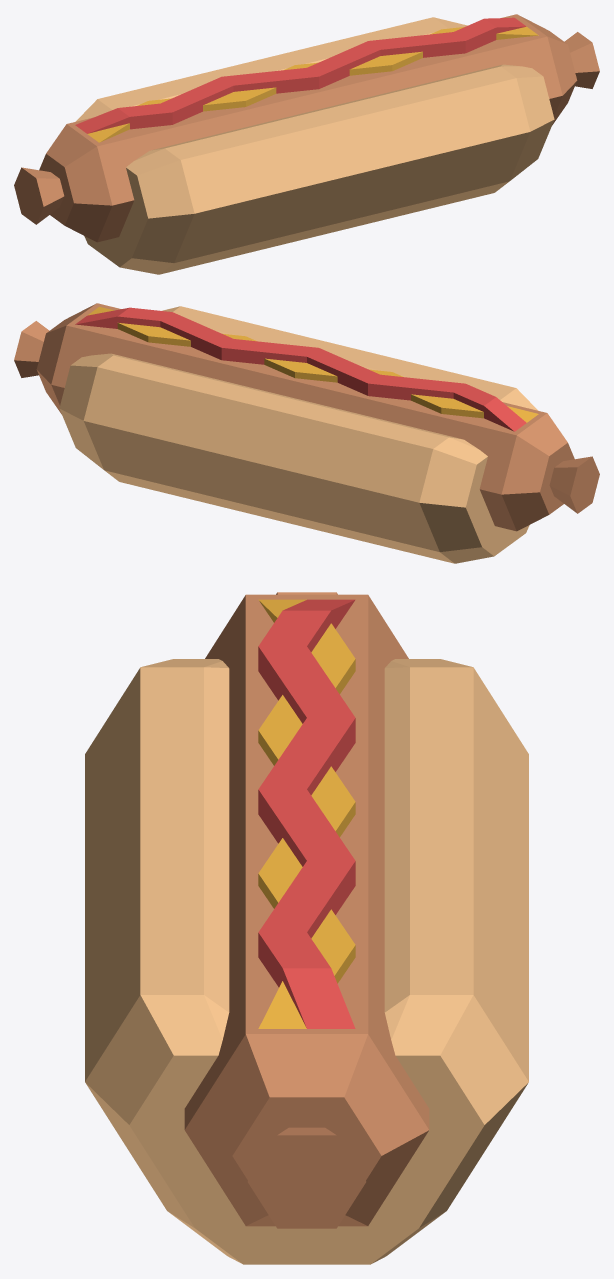
The model's file is hotDog.obj.
3 renders of one model, top to bottom at view 1: azimuth 30°, elevation 25°; view 2: azimuth 150°, elevation 25°; view 3: azimuth 270°, elevation 25°, orthographic. The views are drawn at different scales.
Parts seen in each view (by area): view 1: hotDog, sausage, sauce; view 2: hotDog, sausage, sauce; view 3: hotDog, sausage, sauce.
Part boxes in pixels (bbox=[...]): hotDog: bbox=[75, 17, 554, 274]; sausage: bbox=[14, 14, 599, 242]; sauce: bbox=[75, 17, 538, 142]; hotDog: bbox=[59, 306, 538, 563]; sausage: bbox=[14, 303, 599, 531]; sauce: bbox=[75, 307, 538, 431]; hotDog: bbox=[85, 659, 528, 1264]; sausage: bbox=[184, 592, 429, 1228]; sauce: bbox=[258, 599, 355, 1028].
Size of the model in its own units: 0.5859 by 0.1525 by 0.2026.
